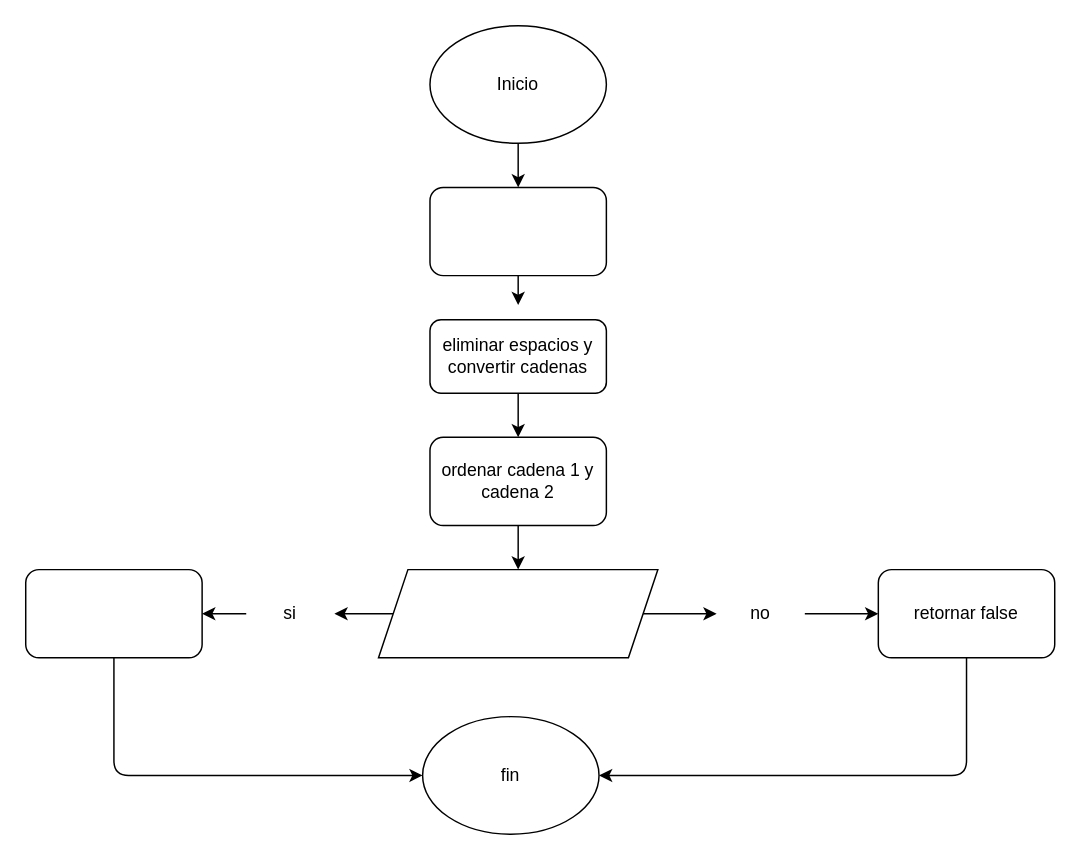
Image size: 1080x860. Some labels were removed from this diagram. Each missing label, with the centre of its shape:
cadena 1 es igual a cadena 2: the point at 517,613
Leer cadena 1 y cadena 2: the point at 517,231
retornar true: the point at 113,613
